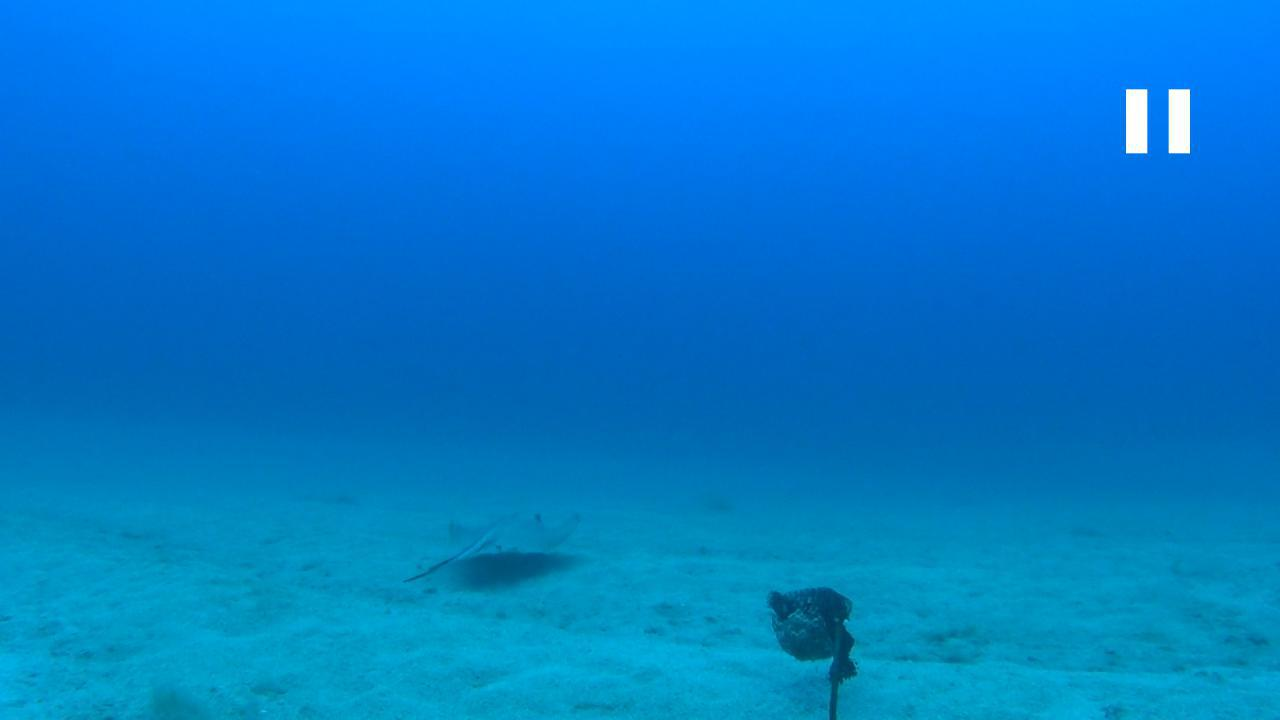dasyatis: (402, 510, 580, 588)
